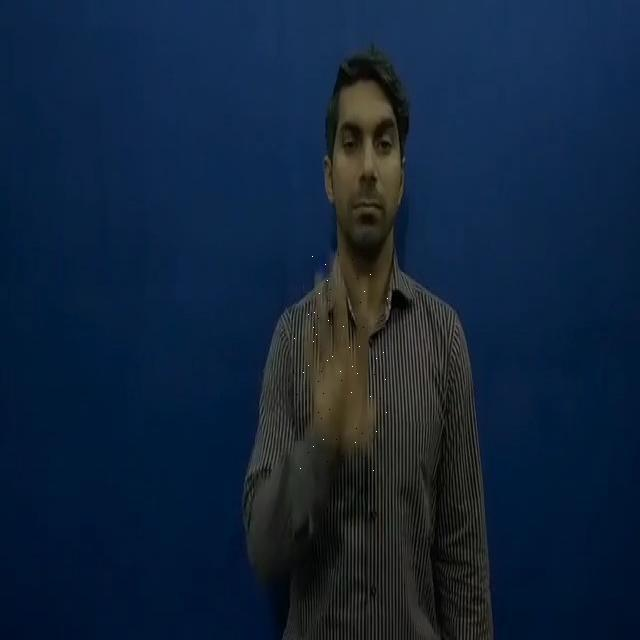eggs: (293, 254, 390, 474)
